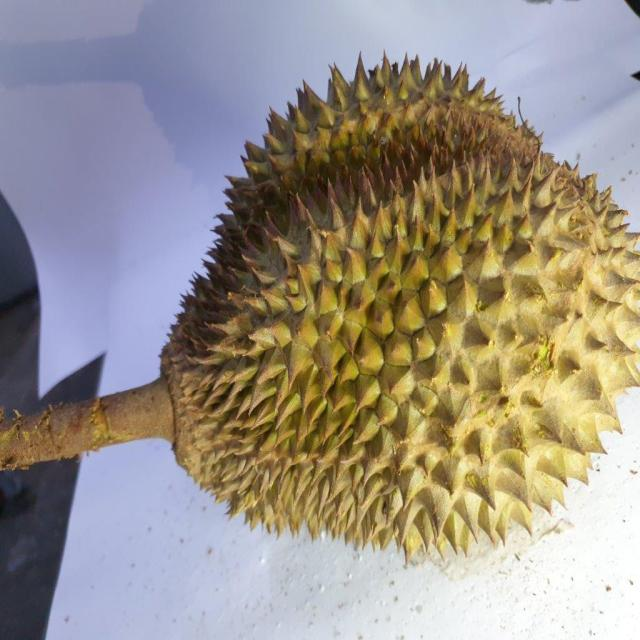mature: (161, 63, 640, 544)
